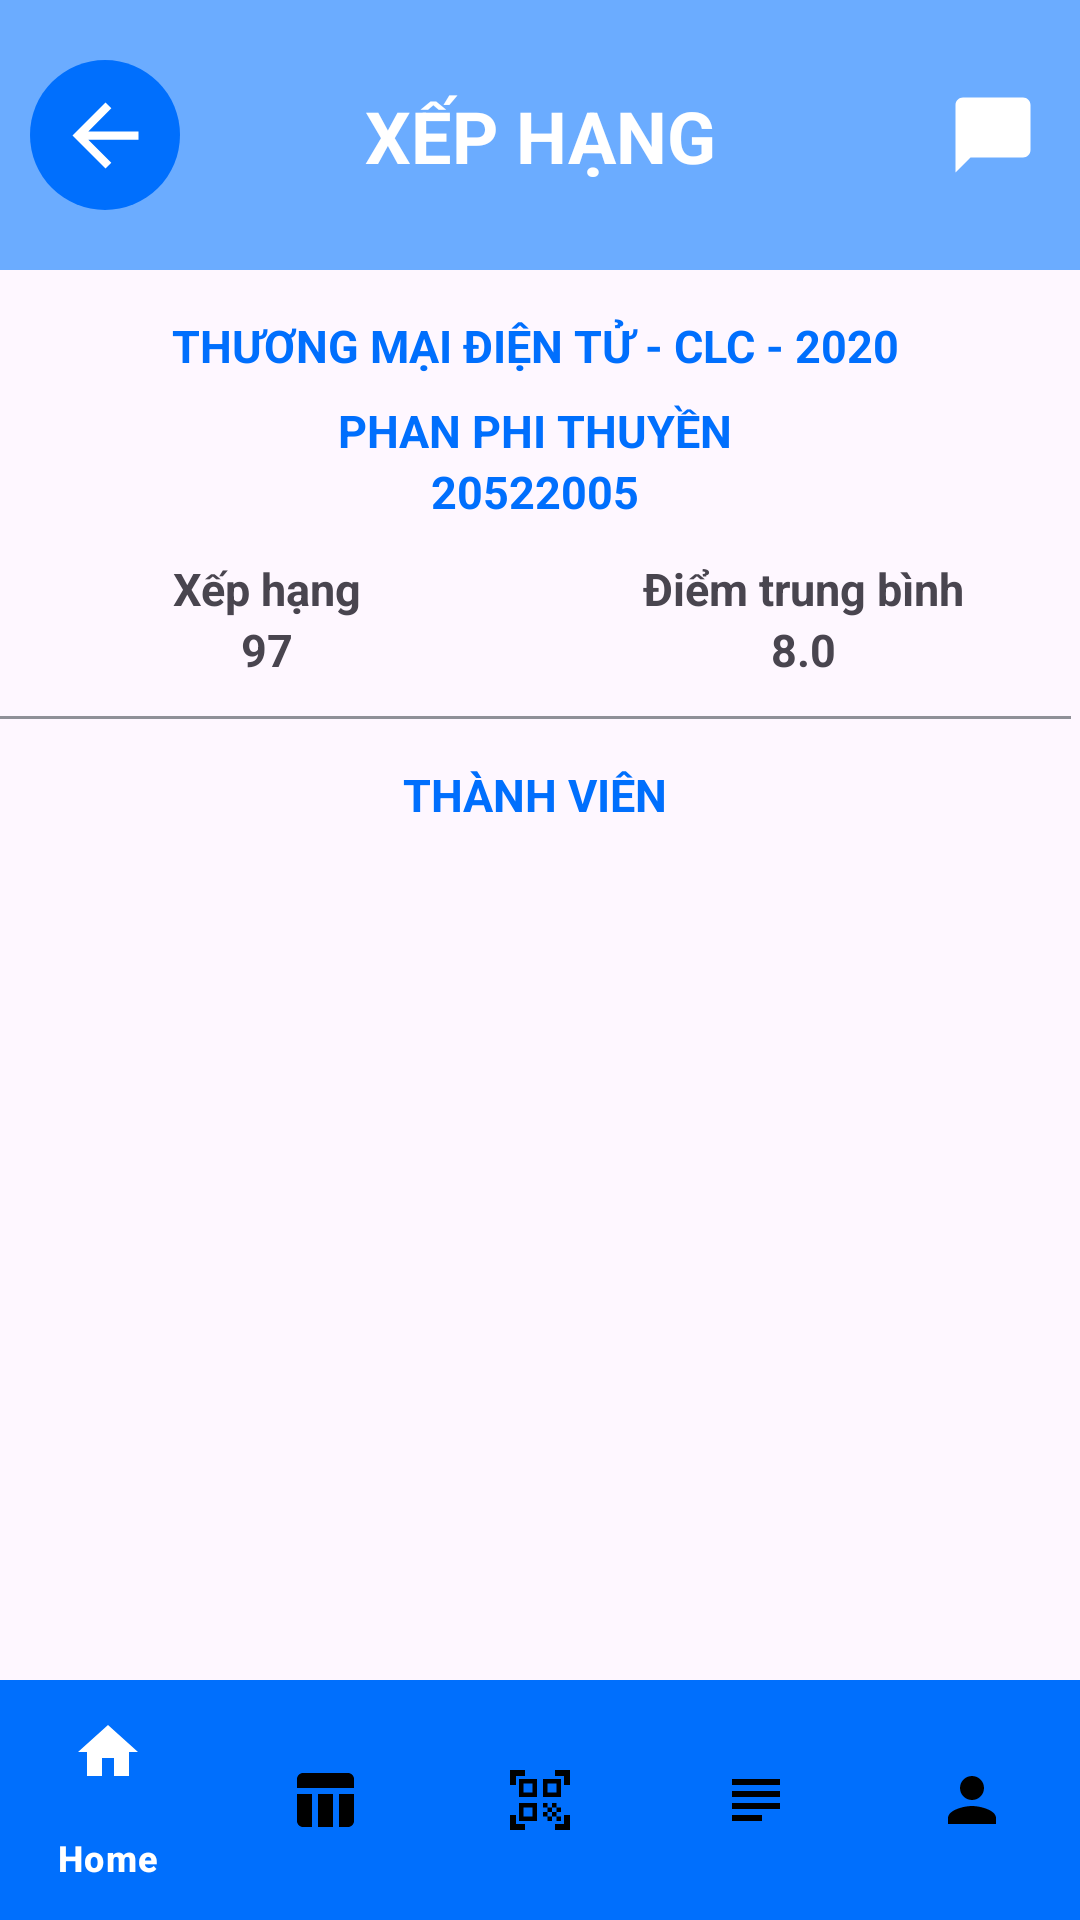

Icon bounding boxes for this 1080×1920 phone screenshot, format (x1, y1, x2, y2):
arrow back: (72, 102, 139, 169)
chat bubble: (955, 97, 1031, 172)
